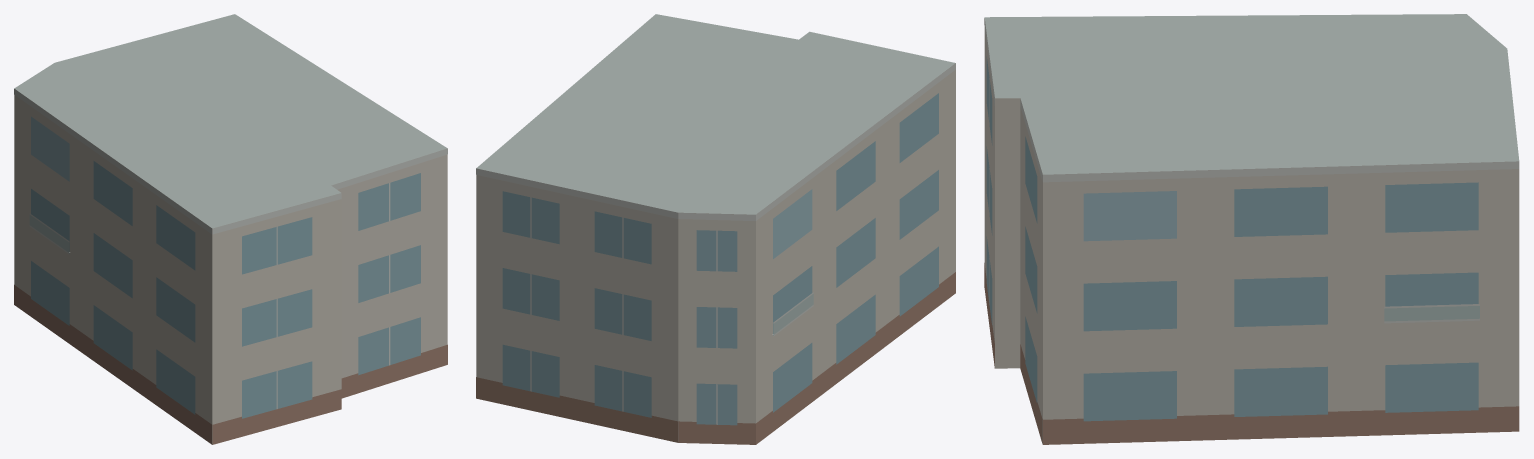
Rendered from survey-upis-33005539.glb.
3 views of the same model, side by side, from view 1: azimuth 30°, elevation 25°; view 2: azimuth 150°, elevation 25°; view 3: azimuth 270°, elevation 25° (orthographic). The views are drawn at different scales.
Parts seen in each view (by area): view 1: survey-upis-33005539.tmp; view 2: survey-upis-33005539.tmp; view 3: survey-upis-33005539.tmp.
Boxes of the visible parts, left/top/right/bottom form: survey-upis-33005539.tmp: left=14, top=14, right=447, bottom=444; survey-upis-33005539.tmp: left=476, top=14, right=955, bottom=444; survey-upis-33005539.tmp: left=984, top=14, right=1519, bottom=444.
Bounding box in the file's own units: 11.13 × 8.7 × 15.62.
